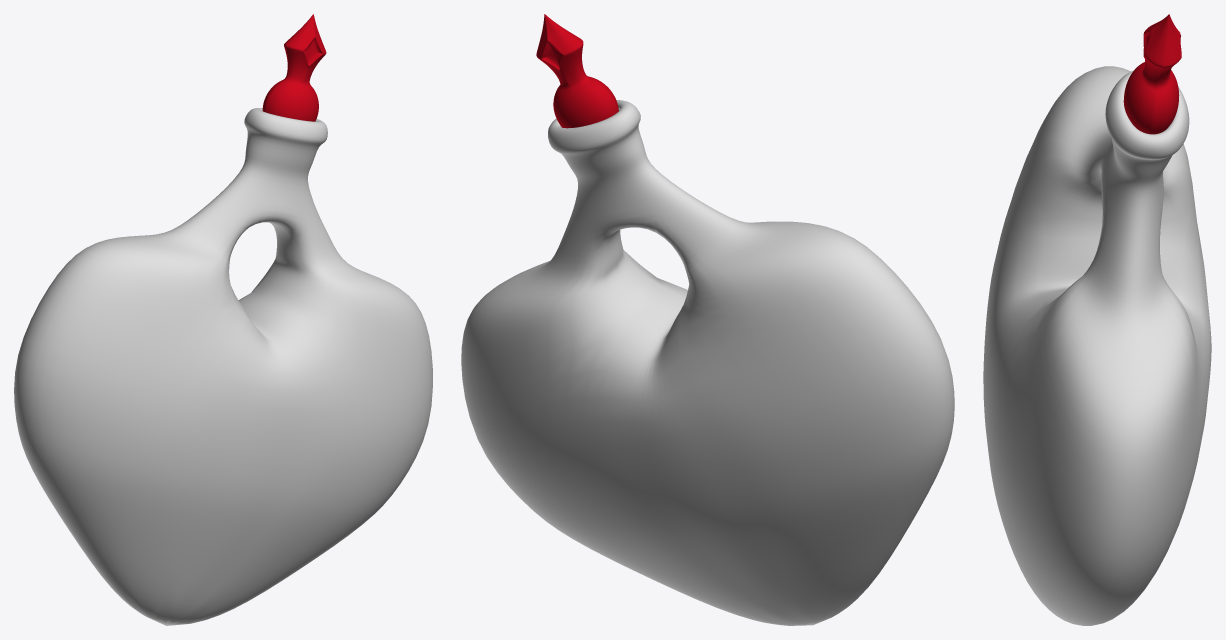
The picture shows the model from 3 angles, left to right: view 1: azimuth 30°, elevation 25°; view 2: azimuth 150°, elevation 25°; view 3: azimuth 270°, elevation 25°; orthographic projection. The views are drawn at different scales.
Parts seen in each view (by area): view 1: love potion.002_2, Sphere.001_1; view 2: love potion.002_2, Sphere.001_1; view 3: love potion.002_2, Sphere.001_1.
Part boxes in pixels (<box>): love potion.002_2: <box>14,108,432,625</box>; Sphere.001_1: <box>262,14,326,121</box>; love potion.002_2: <box>461,100,954,625</box>; Sphere.001_1: <box>536,14,618,128</box>; love potion.002_2: <box>983,66,1211,625</box>; Sphere.001_1: <box>1123,14,1181,134</box>.
Size of the model in its own units: 4.03 by 4.91 by 1.52.
